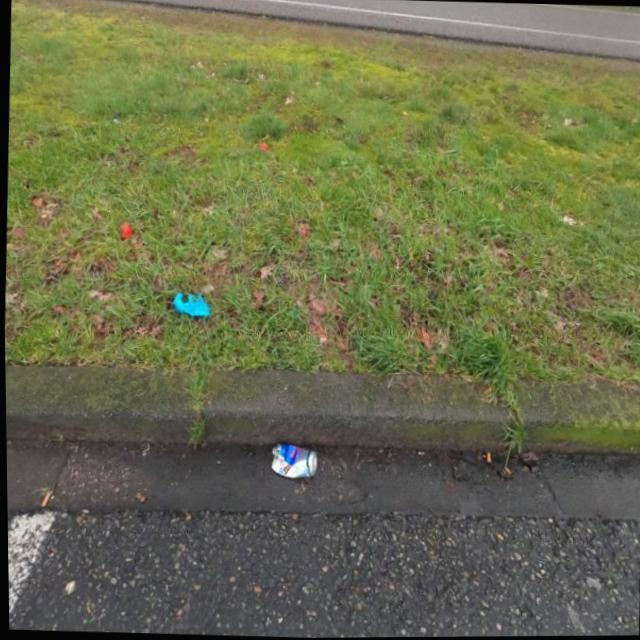Can-Metal: (268, 442, 317, 480)
